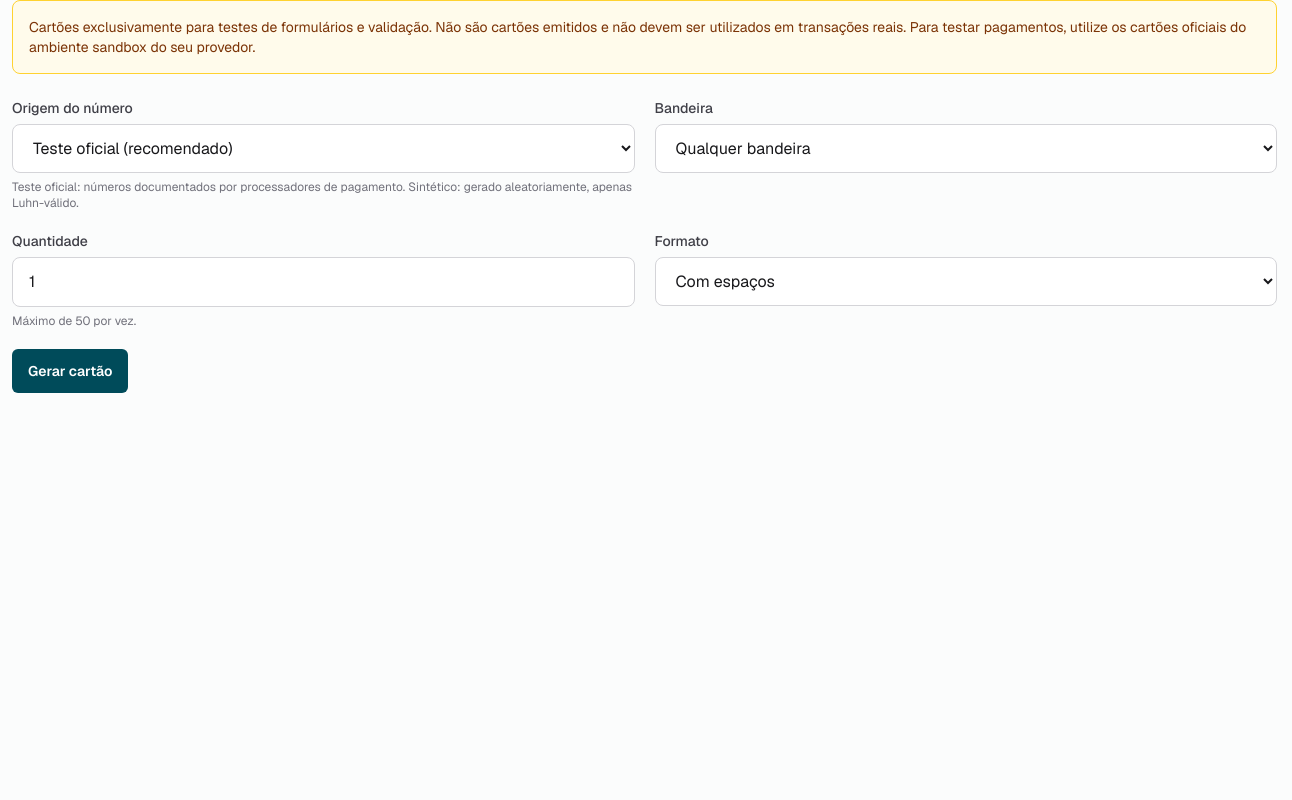
Test case: CreditCardGeneratorTool › copia o número gerado e mostra feedback acessível
Click the button "Gerar cartão" at (70, 371), box [12, 349, 128, 393]
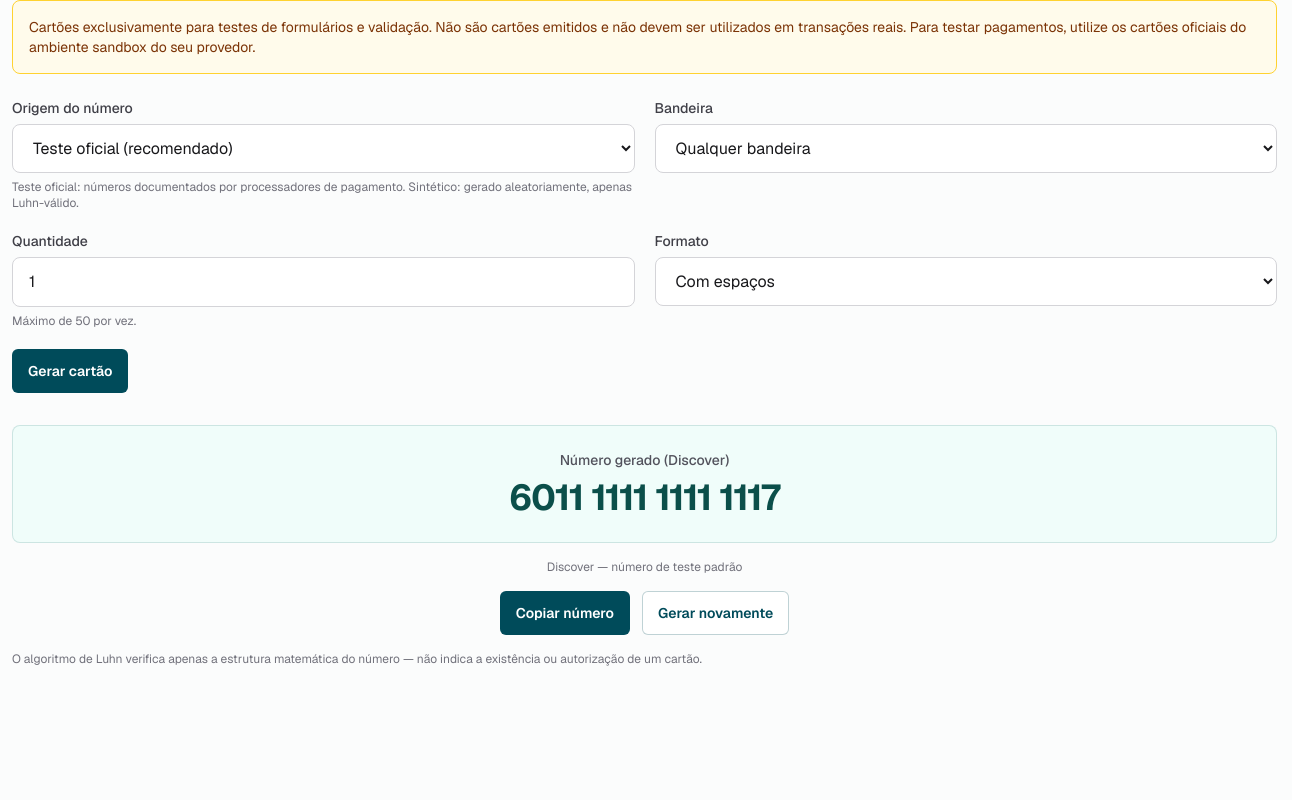
Click the button "Copiar número" at (565, 613), box [500, 591, 630, 635]
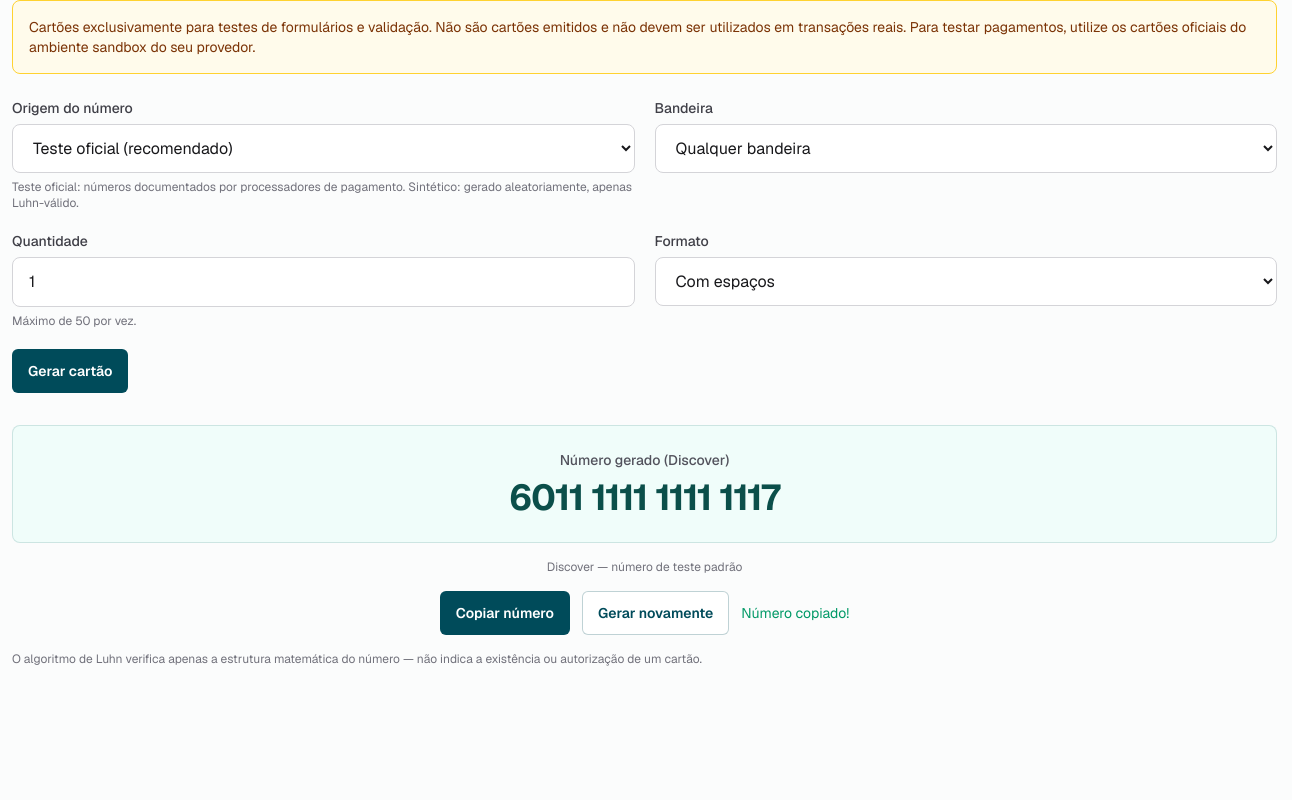
Check: the message reads "Número copiado!", box [741, 604, 849, 622]
